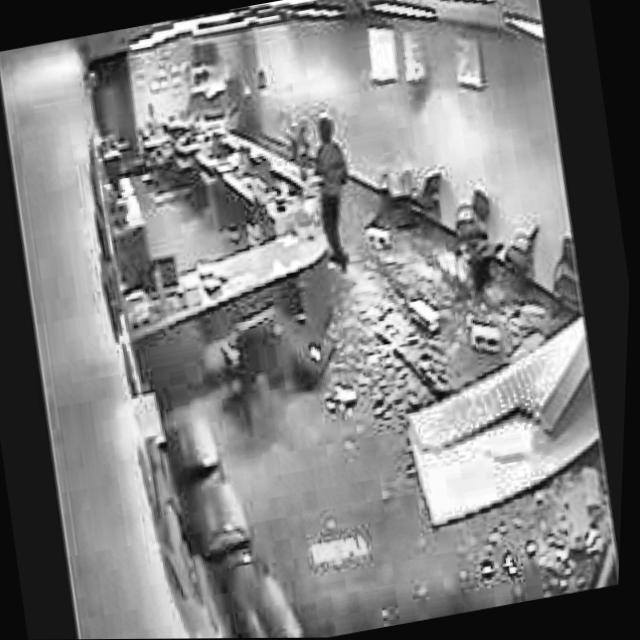Weapon: (308, 105, 408, 278)
